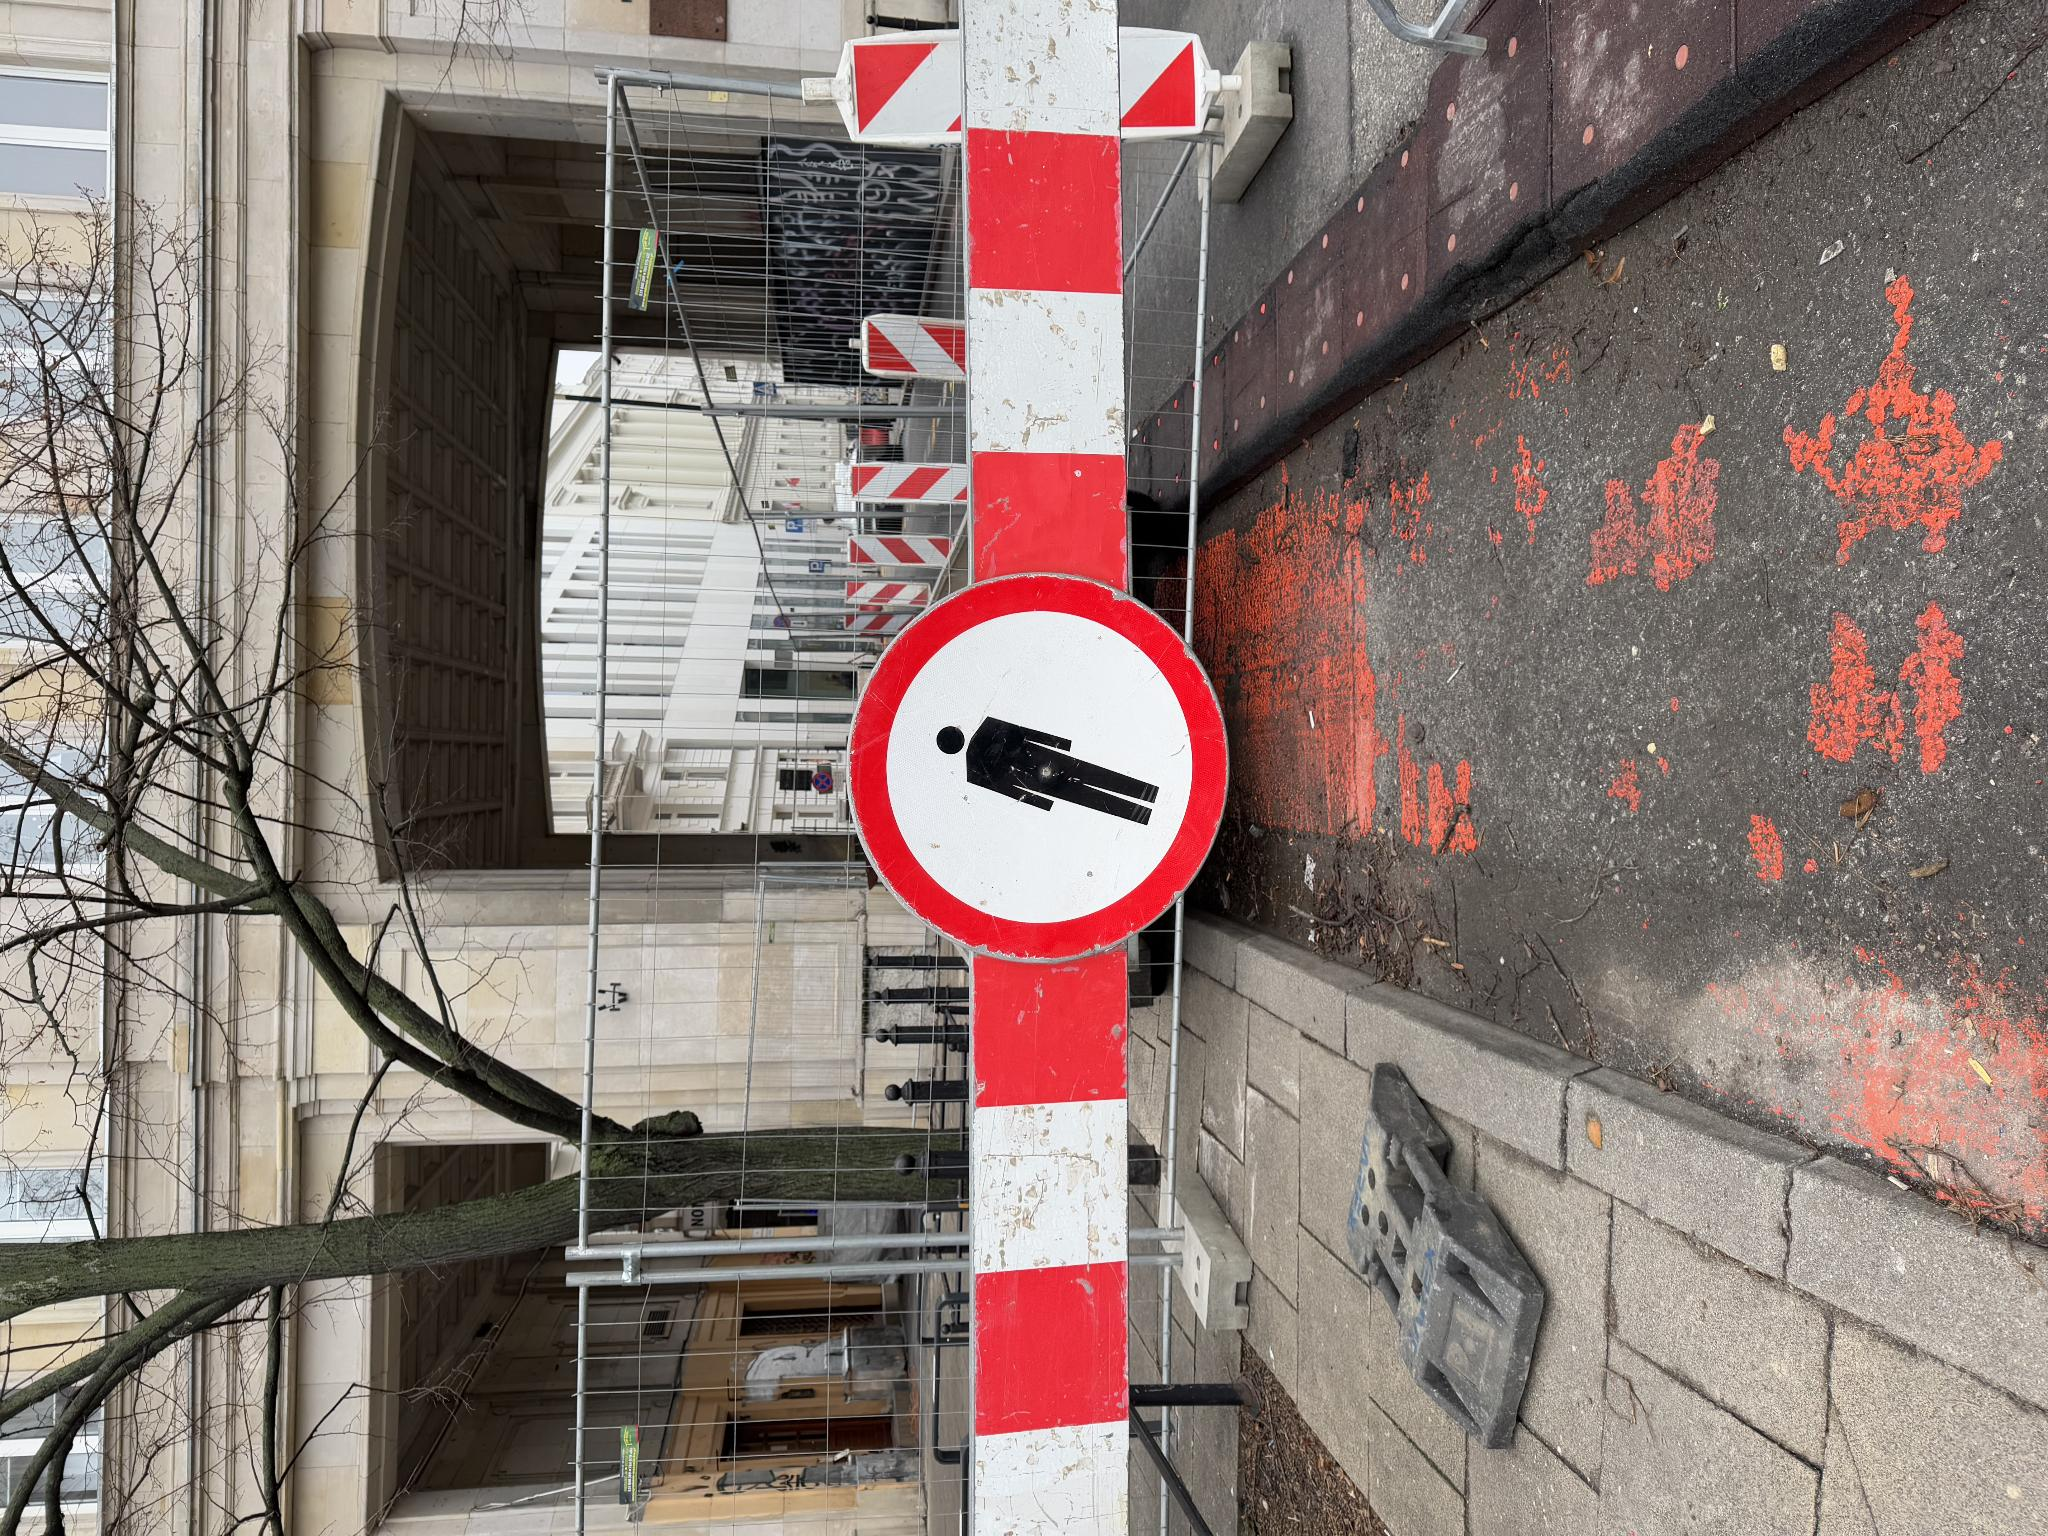information: (1140, 755, 1155, 776), (1005, 787, 1018, 803), (964, 810, 976, 823)
other: (1005, 803, 1016, 815), (910, 791, 914, 807), (964, 824, 976, 831)
prohibitory: (572, 845, 966, 1231), (745, 813, 763, 834), (908, 774, 919, 791)
